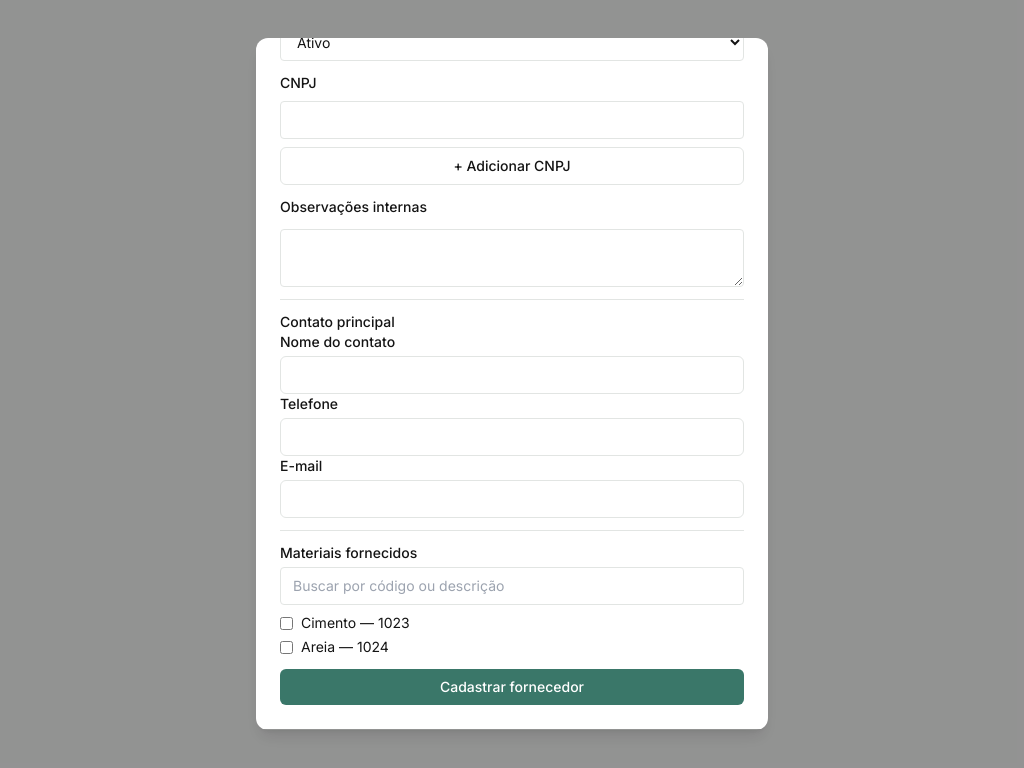
Test: SupplierFormModal › exibe erro de validação quando o nome não é informado
(page scrolled)
Click the button "Cadastrar fornecedor": (512, 687) [280,669,744,705]
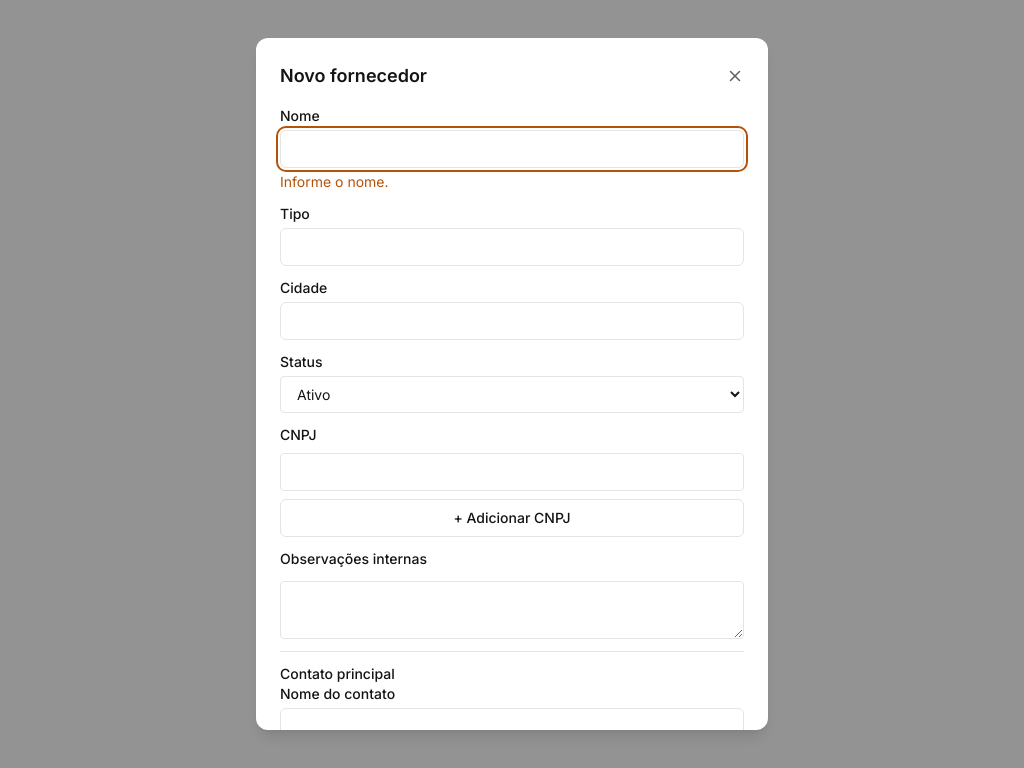
Result: the text "Informe o nome." is shown at [280,173,388,190]
